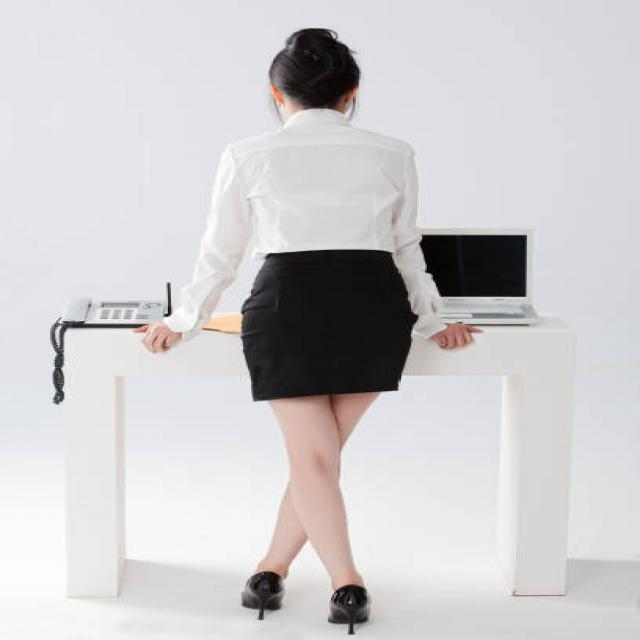no helmet: (268, 26, 365, 118)
